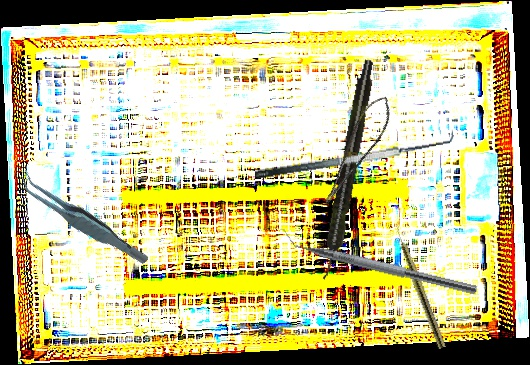Chopper: (275, 226, 482, 295)
Handpiece: (316, 58, 379, 282), (390, 220, 448, 350)
Micro Scissor: (306, 90, 403, 207)
Spatula Surgical: (252, 125, 456, 180)
Tissue Forceps: (17, 152, 150, 288)
